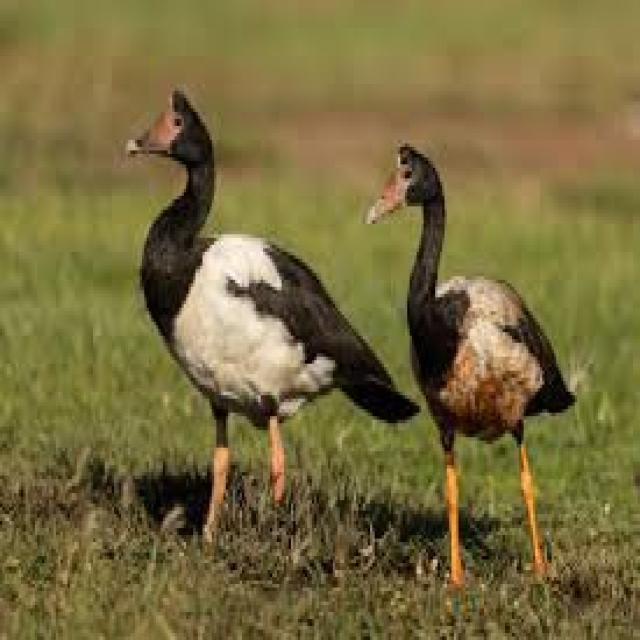Goose: (121, 93, 364, 541), (361, 143, 569, 591)
